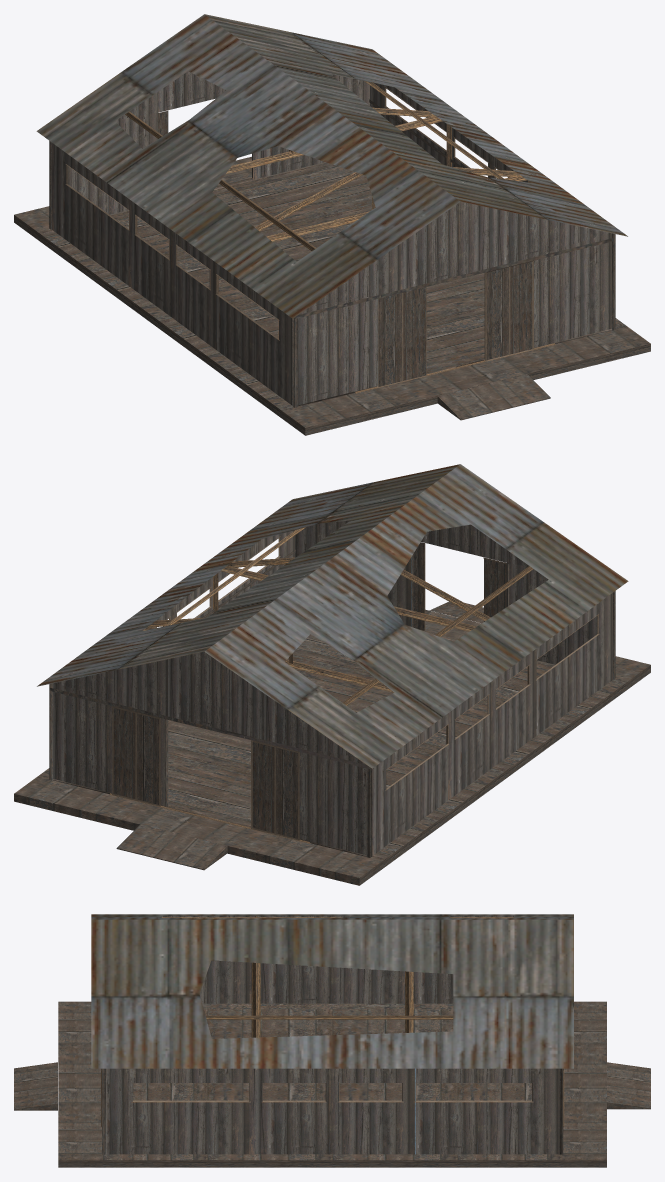
Rendered from Building_Ck04_2048_lod2.glb.
3 renders of one model, top to bottom at view 1: azimuth 30°, elevation 25°; view 2: azimuth 150°, elevation 25°; view 3: azimuth 270°, elevation 25°, orthographic. The views are drawn at different scales.
Parts seen in each view (by area): view 1: xiutz_ck_04_lod2; view 2: xiutz_ck_04_lod2; view 3: xiutz_ck_04_lod2.
Boxes of the visible parts, x1=… form: xiutz_ck_04_lod2: x1=14, y1=14, x2=650, y2=435; xiutz_ck_04_lod2: x1=14, y1=464, x2=650, y2=885; xiutz_ck_04_lod2: x1=14, y1=914, x2=650, y2=1167.
Bounding box in the file's own units: 18.24 × 9.03 × 30.93.
1 material, 1 textured.
